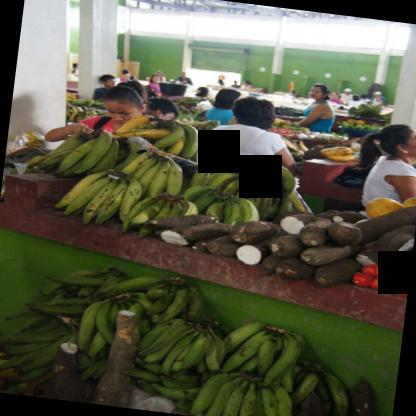backpack: (92, 116, 112, 130)
